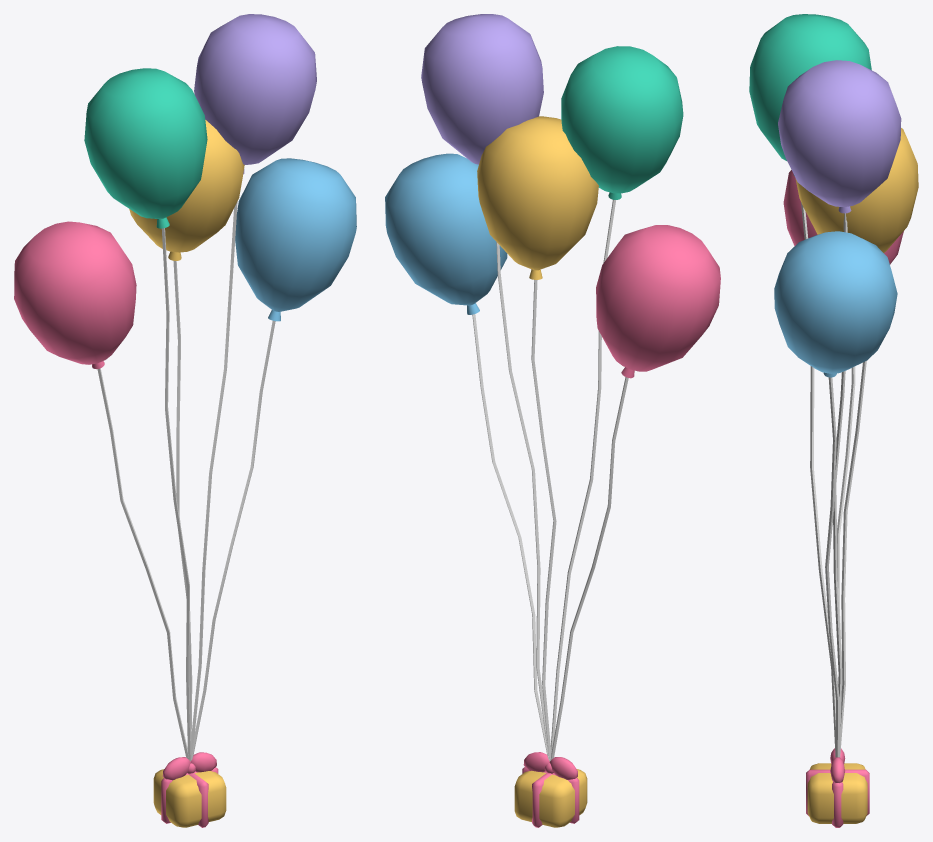
The model's file is prop_balloons.glb.
3 views of the same model, side by side, from view 1: azimuth 30°, elevation 25°; view 2: azimuth 150°, elevation 25°; view 3: azimuth 270°, elevation 25° (orthographic).
Visible parts, largest first — view 1: Balloons; view 2: Balloons; view 3: Balloons.
Boxes of the visible parts, x1,y1,x2,y2 form: Balloons: (14,14,356,827); Balloons: (385,14,720,827); Balloons: (749,14,918,827).
Size of the model in its own units: 1 by 2.3 by 0.4523.
